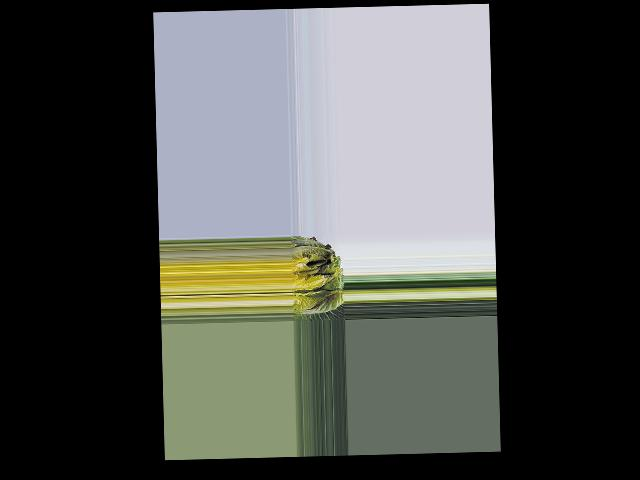lettuce: (290, 237, 343, 321)
